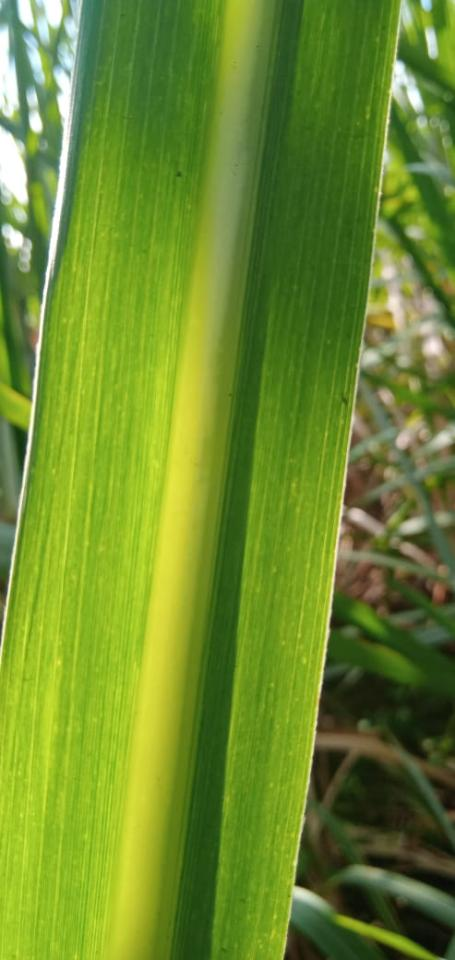Healthy: (0, 0, 400, 959)
